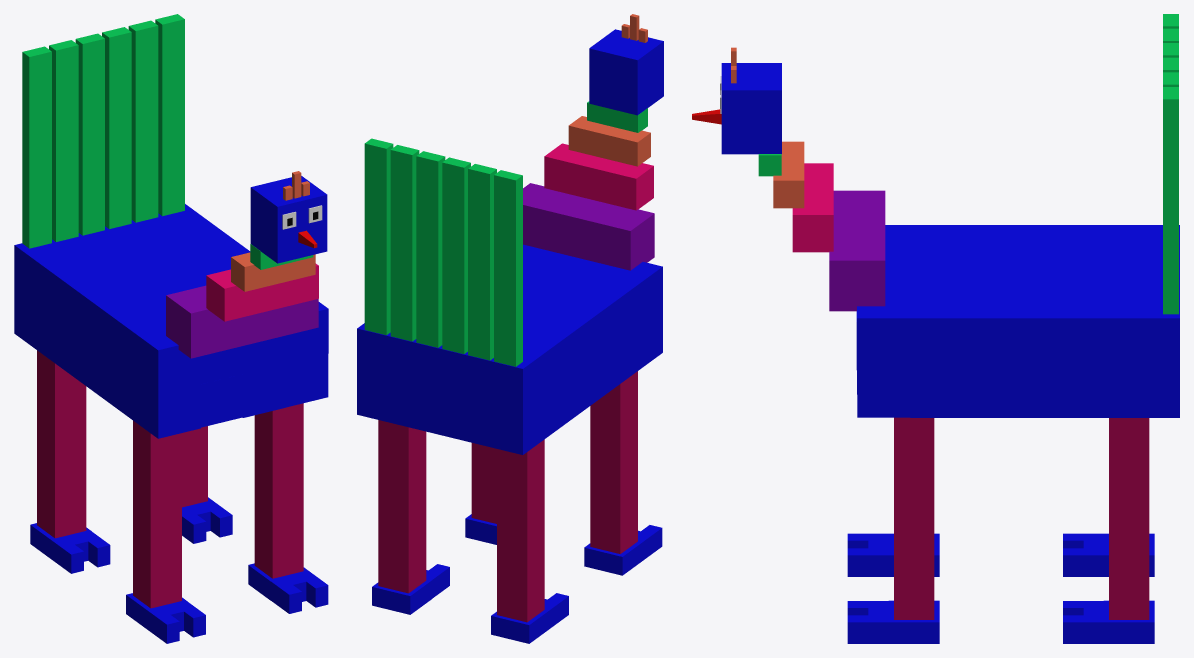
The picture shows the model from 3 angles, left to right: view 1: azimuth 30°, elevation 25°; view 2: azimuth 150°, elevation 25°; view 3: azimuth 270°, elevation 25°; orthographic projection. The views are drawn at different scales.
Visible parts, largest first — view 1: pCube743, pCube747, pCube745, pCube746, pCube748, pCube744, pCube639, pCube623, pCube704, pCube618, pCube603, pCube619 (+53 smaller); view 2: pCube743, pCube639, pCube747, pCube748, pCube746, pCube744, pCube745, pCube623, pCube736, pCube604, pCube619, pCube620 (+45 smaller); view 3: pCube639, pCube715, pCube624, pCube735, pCube711, pCube731, pCube707, pCube739, pCube748, pCube594, pCube604, pCube699 (+34 smaller).
Boxes of the visible parts, bbox=[...] form: pCube743: bbox=[22, 46, 51, 248]; pCube747: bbox=[128, 20, 158, 222]; pCube745: bbox=[75, 33, 104, 235]; pCube746: bbox=[102, 27, 131, 229]; pCube748: bbox=[155, 14, 184, 216]; pCube744: bbox=[49, 40, 78, 241]; pCube639: bbox=[250, 176, 327, 263]; pCube623: bbox=[166, 285, 233, 358]; pCube704: bbox=[133, 324, 200, 394]; pCube618: bbox=[254, 444, 303, 518]; pCube603: bbox=[37, 463, 86, 538]; pCube619: bbox=[37, 403, 86, 478]; pCube743: bbox=[494, 170, 522, 366]; pCube639: bbox=[589, 29, 663, 115]; pCube747: bbox=[390, 145, 419, 341]; pCube748: bbox=[364, 138, 393, 335]; pCube746: bbox=[416, 151, 445, 347]; pCube744: bbox=[468, 164, 496, 360]; pCube745: bbox=[442, 157, 470, 353]; pCube623: bbox=[588, 204, 654, 270]; pCube736: bbox=[481, 346, 546, 412]; pCube604: bbox=[378, 523, 426, 593]; pCube619: bbox=[497, 490, 544, 564]; pCube620: bbox=[378, 462, 426, 532]; pCube639: bbox=[721, 63, 781, 154]; pCube715: bbox=[965, 295, 1021, 367]; pCube624: bbox=[829, 237, 885, 311]; pCube735: bbox=[1069, 295, 1124, 367]; pCube711: bbox=[910, 295, 965, 367]; pCube731: bbox=[1015, 295, 1071, 367]; pCube707: bbox=[857, 295, 912, 368]; pCube739: bbox=[1124, 295, 1179, 367]; pCube748: bbox=[1163, 87, 1178, 314]; pCube594: bbox=[894, 550, 934, 619]; pCube604: bbox=[1109, 550, 1149, 619]; pCube699: bbox=[910, 367, 965, 417].
Size of the model in its own units: 7.94 by 21.78 by 17.53.
